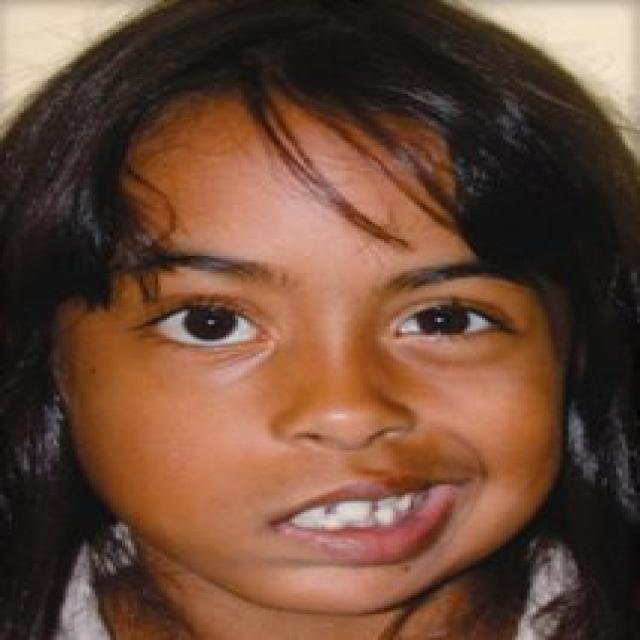stroke_face: (45, 6, 587, 607)
